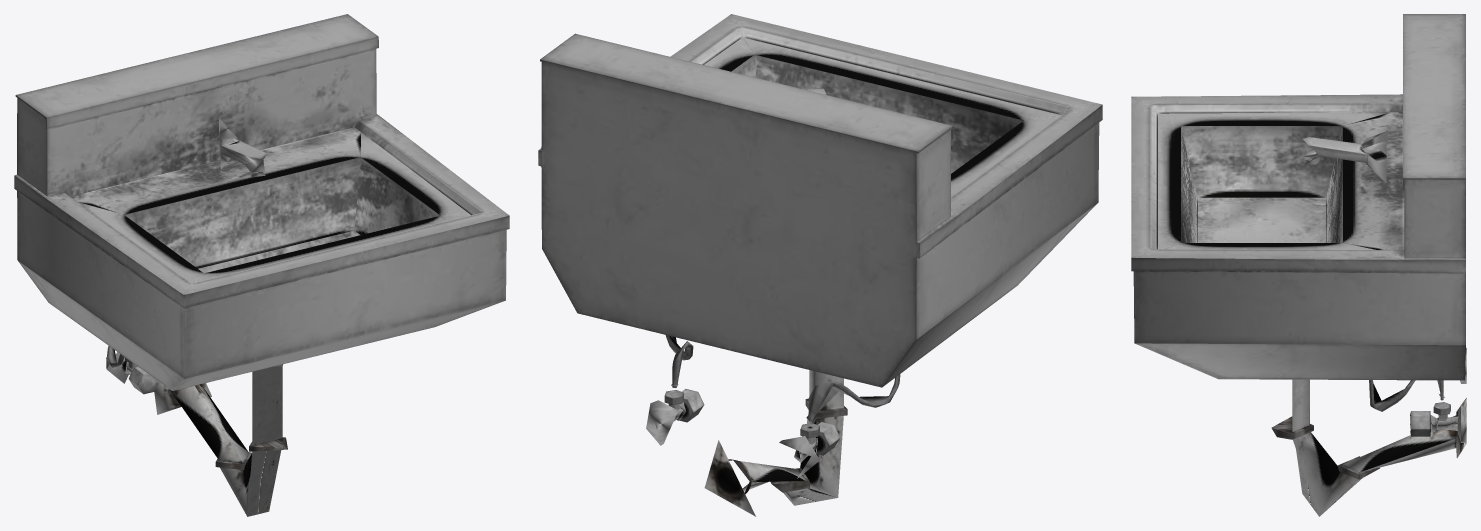
Rendered from sink.glb.
3 views of the same model, side by side, from view 1: azimuth 30°, elevation 25°; view 2: azimuth 150°, elevation 25°; view 3: azimuth 270°, elevation 25° (orthographic). The views are drawn at different scales.
Visible parts, largest first — view 1: Drain_MetalSink_MTL_0; view 2: Drain_MetalSink_MTL_0; view 3: Drain_MetalSink_MTL_0.
Part boxes in pixels (x1,y1,x2,y2): Drain_MetalSink_MTL_0: (14, 14, 509, 516); Drain_MetalSink_MTL_0: (538, 14, 1102, 516); Drain_MetalSink_MTL_0: (1131, 14, 1466, 516).
Bounding box in the file's own units: 0.4466 × 0.5193 × 0.3816.
Materials: 1 (1 with a texture image).
